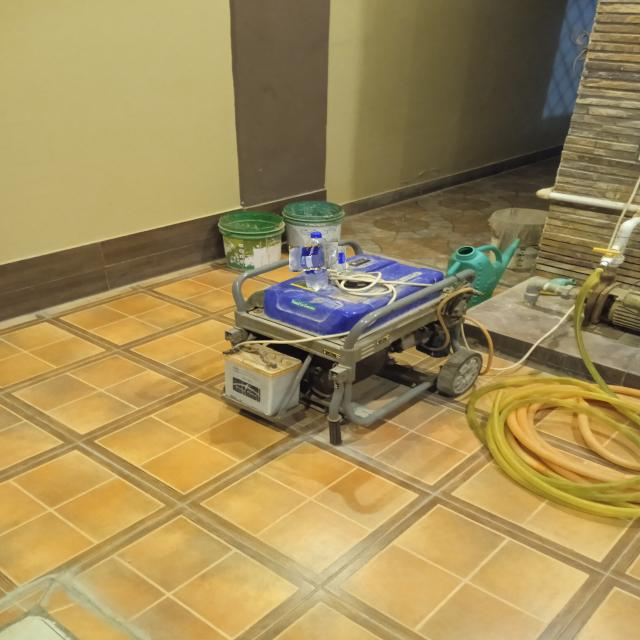Plastic: (296, 238, 338, 280)
